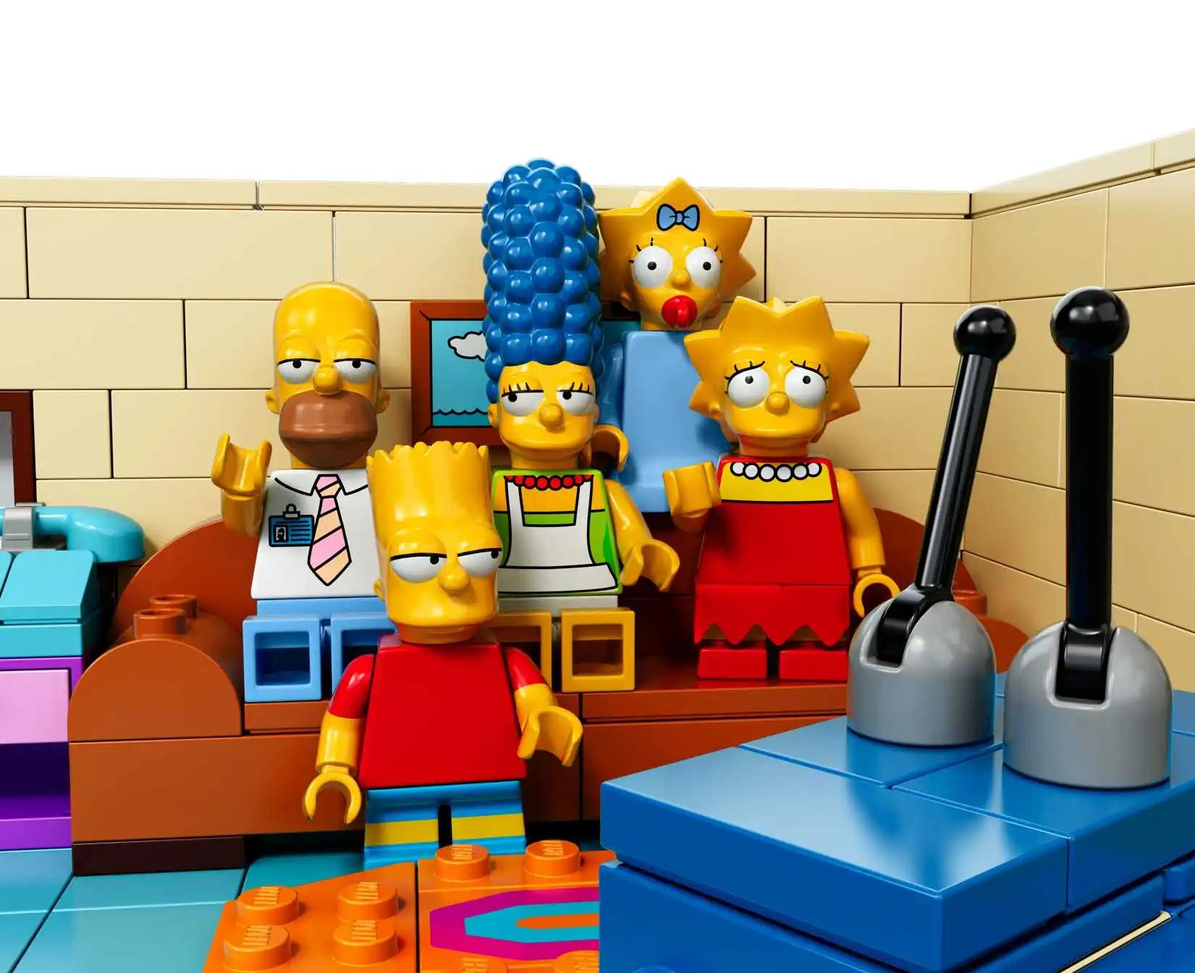Bart: (353, 424, 542, 771)
Homer: (156, 259, 439, 530)
Lisa: (664, 297, 910, 506)
Maggie: (584, 172, 785, 356)
Marge: (449, 134, 635, 548)
